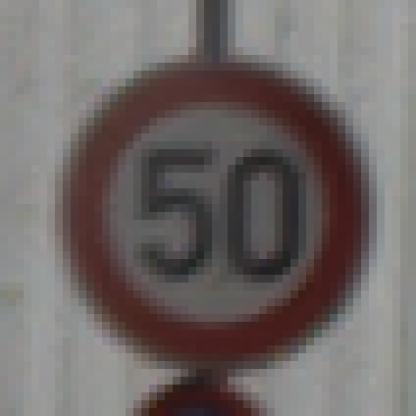Speed Limit 50: (70, 66, 361, 363)
